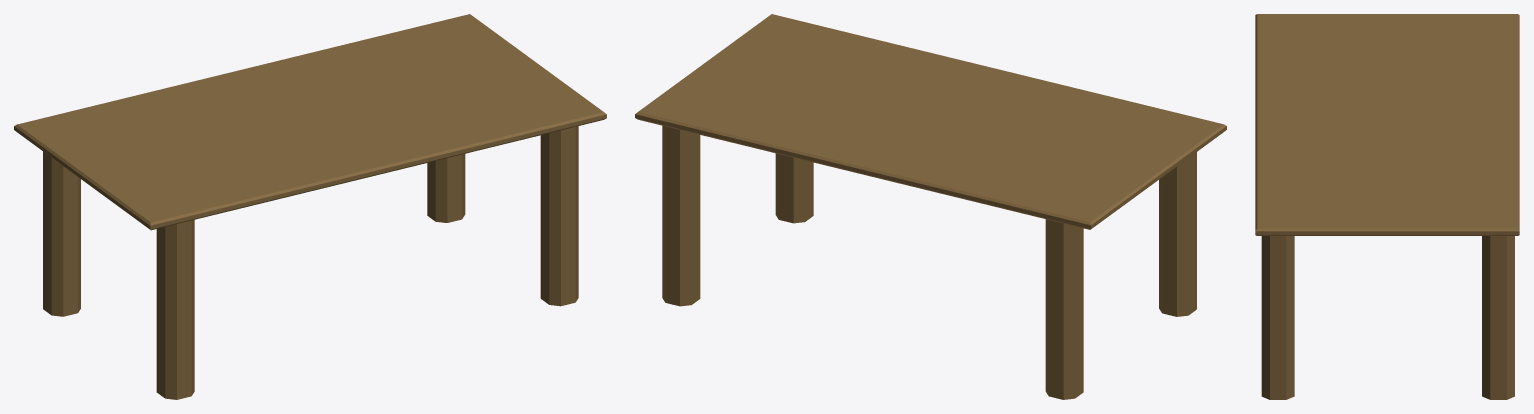
The model's file is Desk.fbx.
3 views of the same model, side by side, from view 1: azimuth 30°, elevation 25°; view 2: azimuth 150°, elevation 25°; view 3: azimuth 270°, elevation 25° (orthographic). The views are drawn at different scales.
Parts seen in each view (by area): view 1: pCube5, pCube4, pCube1, pCube2, pCube3; view 2: pCube5, pCube2, pCube3, pCube1, pCube4; view 3: pCube5, pCube4, pCube3.
Part boxes in pixels (x1,y1,x2,y2): pCube5: (14,14,606,230); pCube4: (540,126,578,306); pCube1: (156,220,194,399); pCube2: (43,151,80,316); pCube3: (427,154,465,222); pCube5: (635,14,1226,229); pCube2: (1045,219,1083,399); pCube3: (662,125,700,306); pCube1: (1159,152,1196,316); pCube4: (775,153,813,223); pCube5: (1255,14,1519,235); pCube4: (1261,236,1294,399); pCube3: (1482,236,1514,399).
Bounding box in the file's own units: 6.97 × 2.71 × 3.6.
